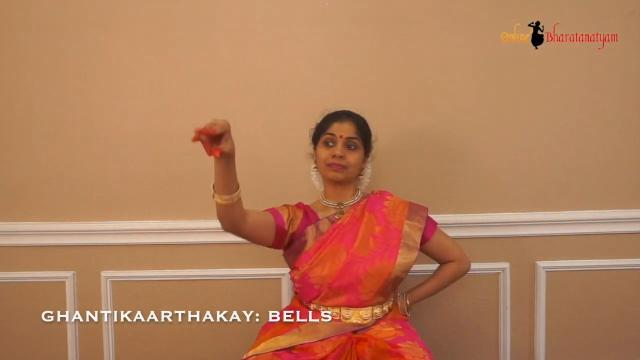kangul: (174, 108, 250, 176)
